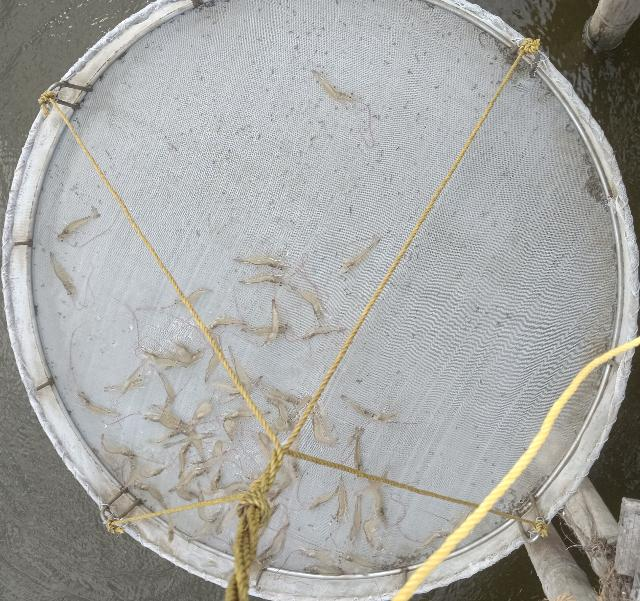shrimp: (50, 252, 82, 309), (287, 284, 330, 325), (339, 237, 381, 274), (312, 69, 357, 103), (57, 207, 100, 241), (341, 396, 396, 422), (256, 524, 289, 562), (76, 393, 120, 417), (229, 346, 248, 401), (168, 469, 210, 493), (141, 415, 188, 436), (135, 481, 169, 510), (311, 410, 337, 446), (368, 478, 387, 525), (177, 420, 203, 454), (257, 385, 299, 406), (142, 347, 186, 367), (101, 435, 135, 459), (264, 299, 281, 347), (162, 434, 216, 449), (266, 396, 289, 431), (204, 335, 221, 382), (414, 532, 450, 554), (228, 377, 262, 400), (309, 487, 340, 512), (103, 374, 145, 392), (233, 256, 286, 270), (363, 515, 383, 552), (198, 492, 221, 524), (297, 325, 345, 340), (157, 372, 176, 409), (215, 481, 254, 499), (172, 342, 203, 364), (197, 469, 222, 496), (341, 553, 378, 571), (120, 455, 138, 492), (299, 549, 334, 568), (189, 451, 227, 468), (349, 494, 361, 544), (334, 477, 346, 525), (207, 317, 247, 331), (288, 437, 300, 483), (239, 274, 288, 285), (223, 410, 272, 421), (240, 325, 288, 336), (354, 427, 365, 473), (178, 443, 191, 479), (300, 566, 343, 576), (186, 289, 211, 306), (212, 384, 245, 393), (173, 300, 185, 307), (122, 465, 127, 479)
